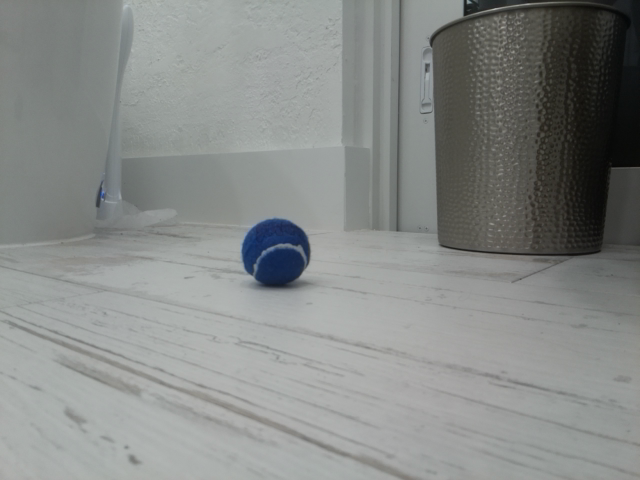blue-ball: (240, 217, 312, 287)
